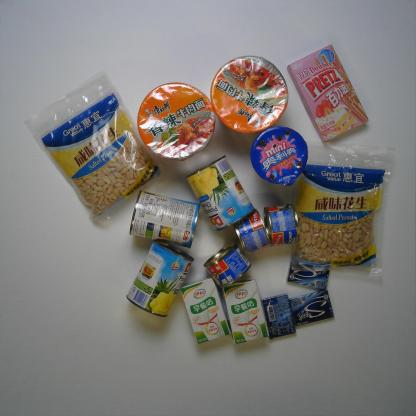Canned Food: (184, 153, 254, 231), (126, 239, 192, 316), (127, 186, 206, 247), (206, 242, 250, 289), (233, 204, 270, 257), (262, 201, 300, 248)
Dessert: (288, 42, 372, 143), (250, 121, 308, 186)
Dried Fruit: (22, 71, 159, 220), (298, 154, 388, 275)
Gum: (282, 253, 334, 292), (289, 288, 334, 326), (264, 292, 295, 340)
Instant Noodles: (212, 54, 291, 132), (138, 81, 214, 157)
Milk: (221, 277, 272, 355), (178, 277, 232, 346)
